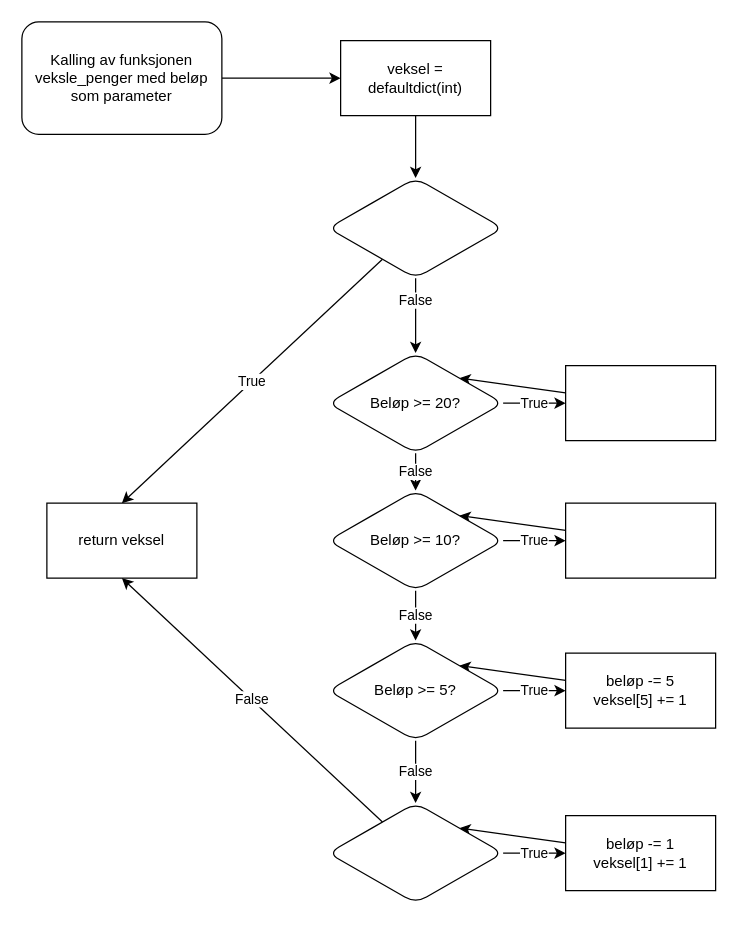
This 738x925 diagram has some shape labels left out. Each missing label, with the centre of its shape:
"beløp -= 10 veksel[10] += 1" belongs at pixel 640 540.
"beløp -= 20 veksel[20] += 1" belongs at pixel 640 402.
"Beløp > 500?" belongs at pixel 415 227.
"Beløp >= 1?" belongs at pixel 415 852.
